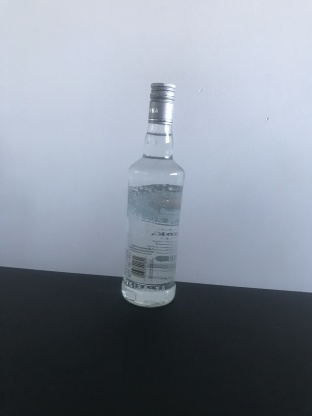nakretka: (147, 81, 176, 126)
